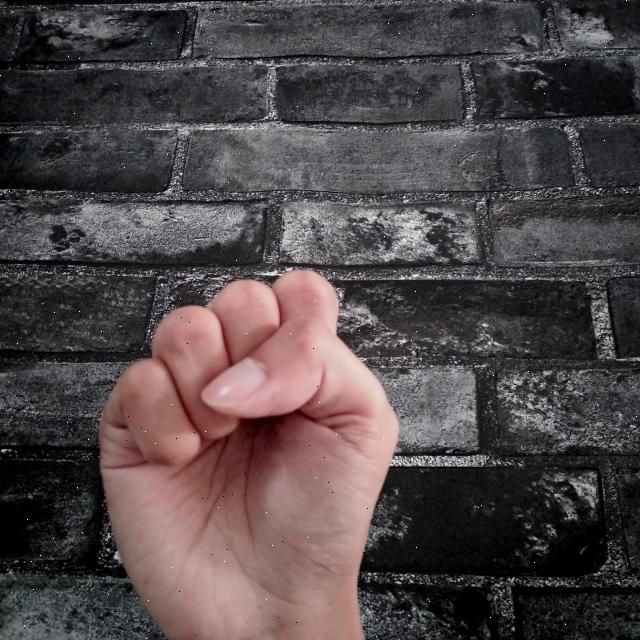S: (92, 256, 403, 640)
